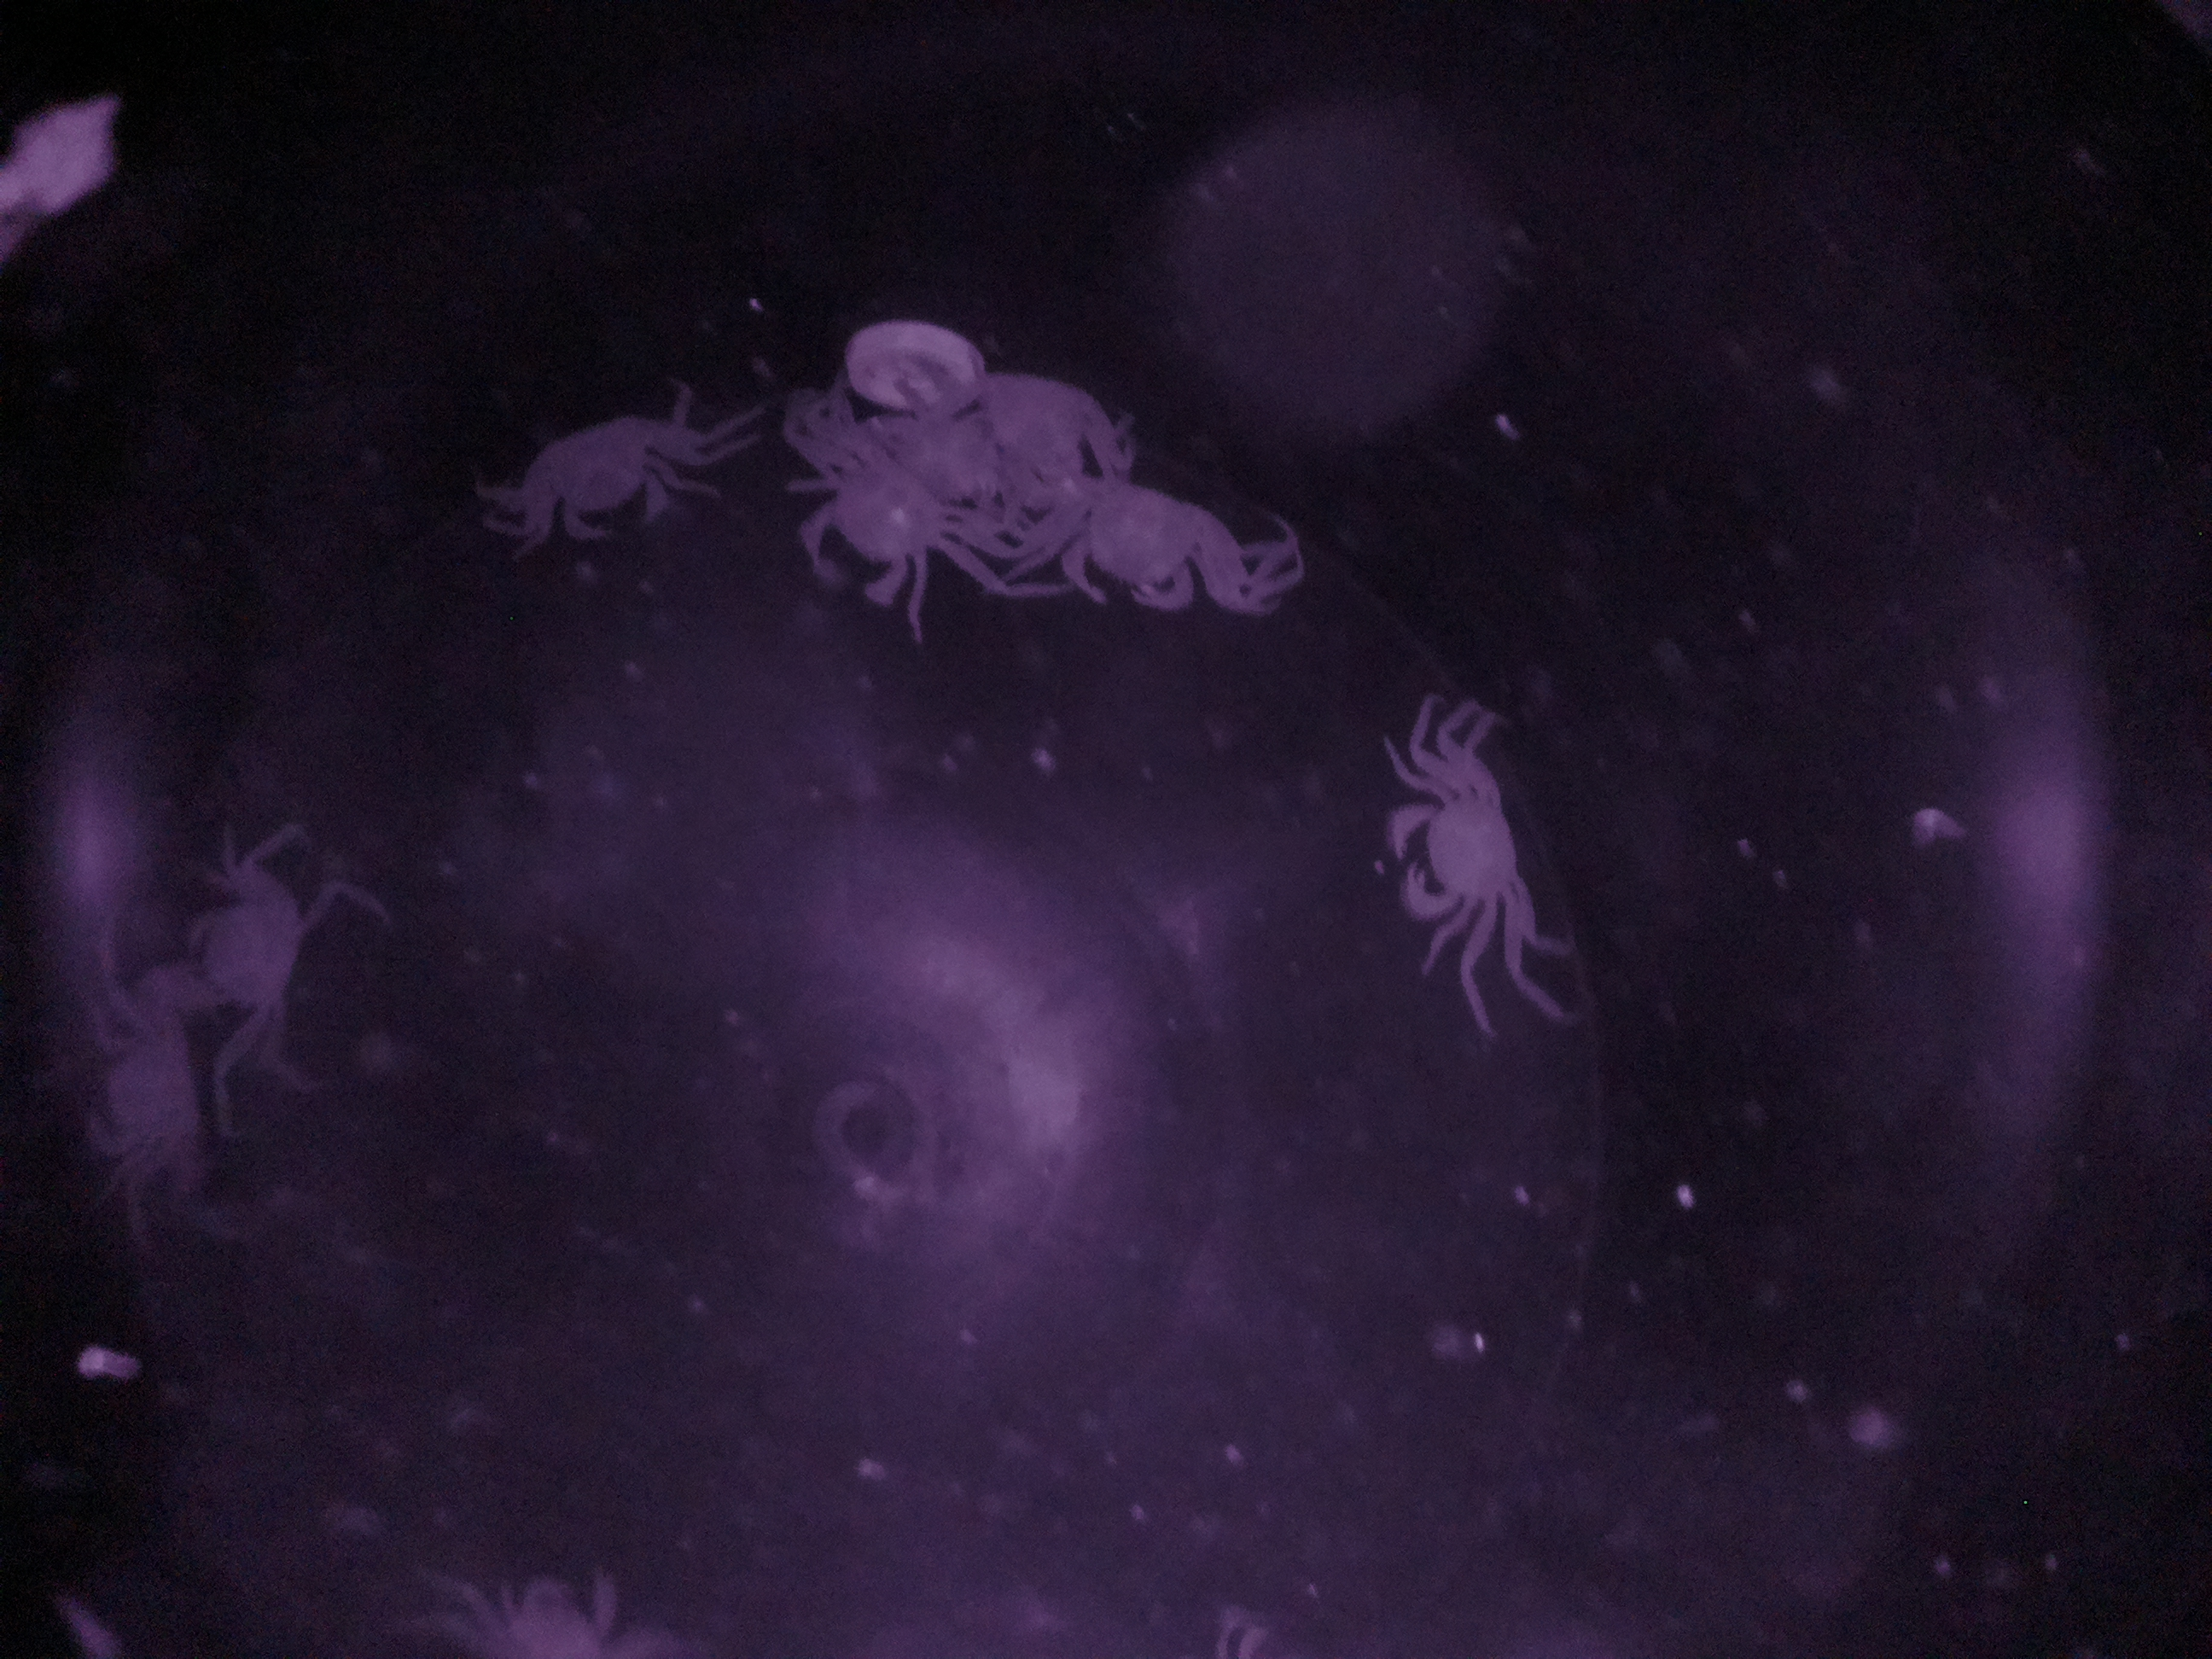Crab: (1379, 732, 1557, 967), (481, 397, 723, 554)
